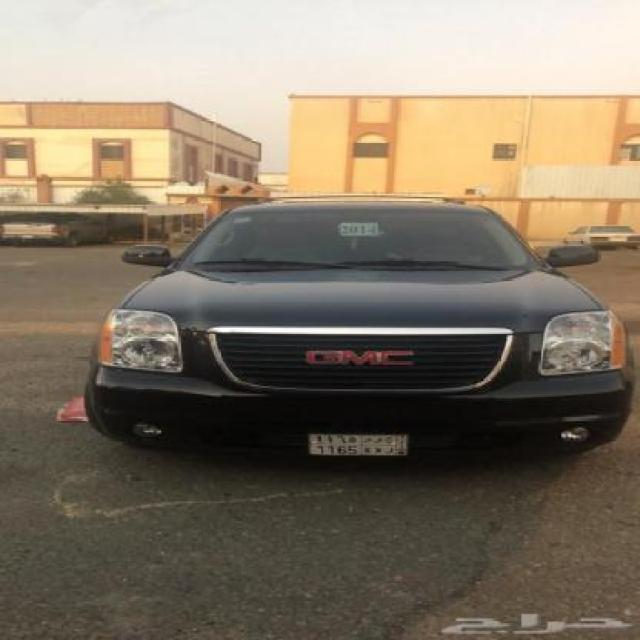license_plate: (306, 432, 412, 458)
